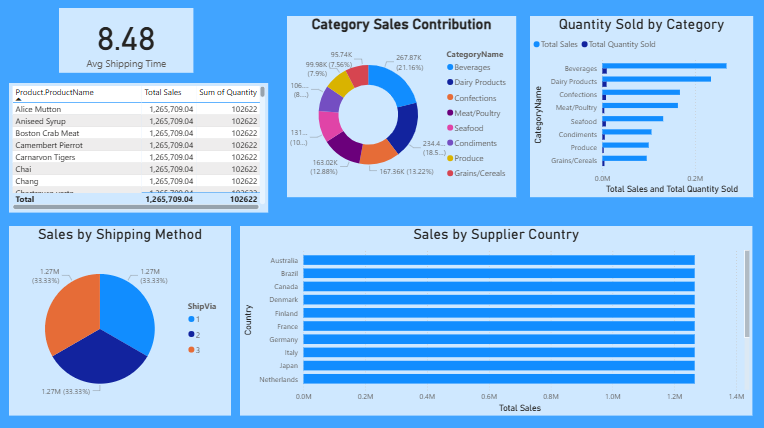

What the dashboard file says about the page in this screenshot:
{"tool":"powerbi","page":{"name":"Analysis","canvas":[1280,720],"ordinal":1},"visuals":[{"type":"clusteredBarChart","title":"Quantity Sold by Category","fields":{"Category":["Categories.CategoryName"],"Y":["OrdersDetails.Total Sales","Orders.Total Quantity Sold"]},"box":[886,32,372,302],"z":0},{"type":"clusteredBarChart","title":"Sales by Supplier Country","fields":{"Category":["Suppliers (2).Country"],"Y":["OrdersDetails.Total Sales"]},"box":[404,382,854,316],"z":1000},{"type":"donutChart","title":" Category Sales Contribution","fields":{"Category":["Categories.CategoryName"],"Y":["OrdersDetails.Total Sales"]},"box":[482,32,382,302],"z":2000},{"type":"pieChart","title":" Sales by Shipping Method","fields":{"Y":["OrdersDetails.Total Sales"],"Category":["Orders.ShipVia"]},"box":[18,382,370,316],"z":3000},{"type":"card","fields":{"Values":["Categories.Avg Shipping Time"]},"box":[102,18,224,108],"z":4000},{"type":"tableEx","fields":{"Values":["OrdersWithProduct.Product.ProductName","OrdersDetails.Total Sales","Sum(OrdersDetails.Quantity)"]},"box":[18,144,432,216],"z":5000}]}

Visuals, with their boxes in screenshot pixels (x1, y1, x2, y2), scaled from the page's 1280x720 canvas onto the 764x428 screenshot:
"Quantity Sold by Category" clusteredBarChart: x1=529 y1=19 x2=751 y2=199
"Sales by Supplier Country" clusteredBarChart: x1=241 y1=227 x2=751 y2=415
" Category Sales Contribution" donutChart: x1=288 y1=19 x2=516 y2=199
" Sales by Shipping Method" pieChart: x1=11 y1=227 x2=232 y2=415
card - Categories.Avg Shipping Time: x1=61 y1=11 x2=195 y2=75
tableEx - OrdersWithProduct.Product.ProductName x OrdersDetails.Total Sales: x1=11 y1=86 x2=269 y2=214
